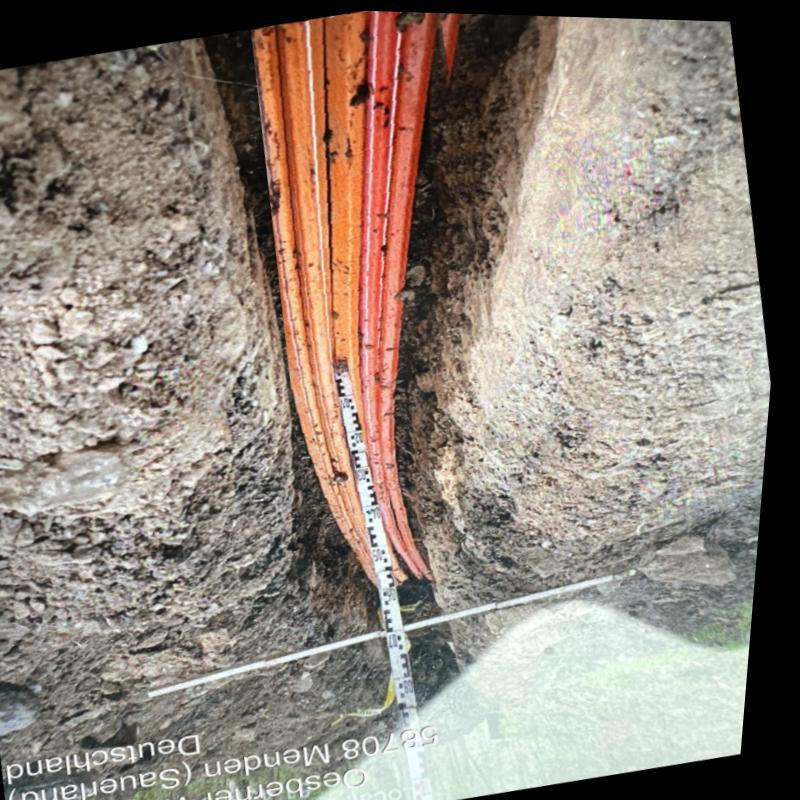Orang-Speednetrohrchen: (251, 8, 443, 585)
